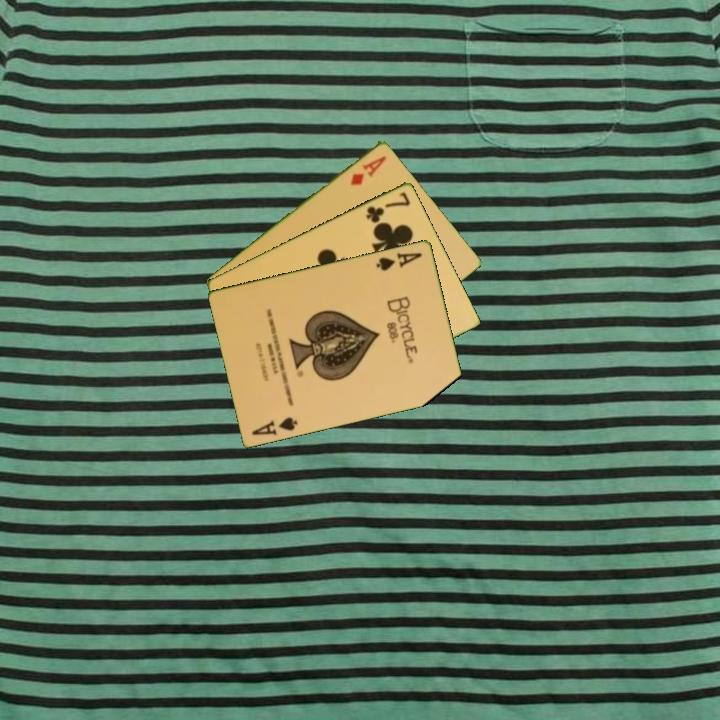7c: (362, 188, 414, 225)
Ad: (347, 152, 390, 188)
As: (248, 413, 301, 438), (373, 249, 425, 273)
